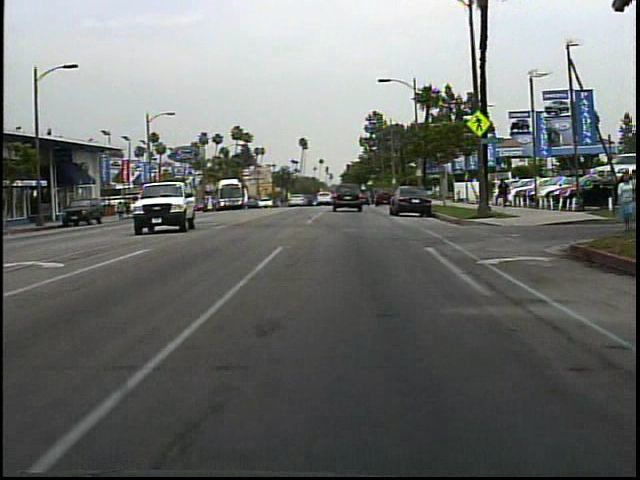person: (609, 167, 639, 233)
